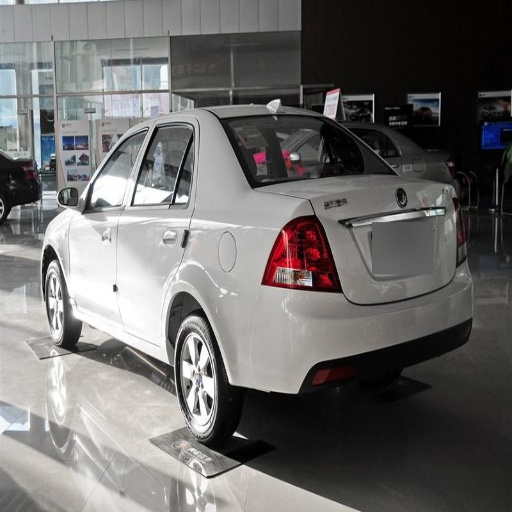back_bumper: (213, 268, 470, 398)
back_glass: (221, 116, 391, 186)
back_left_door: (117, 119, 196, 344)
